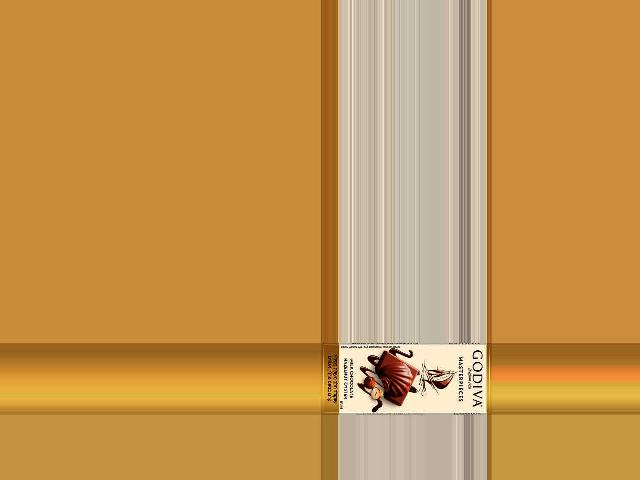chocolate: (321, 344, 491, 414)
